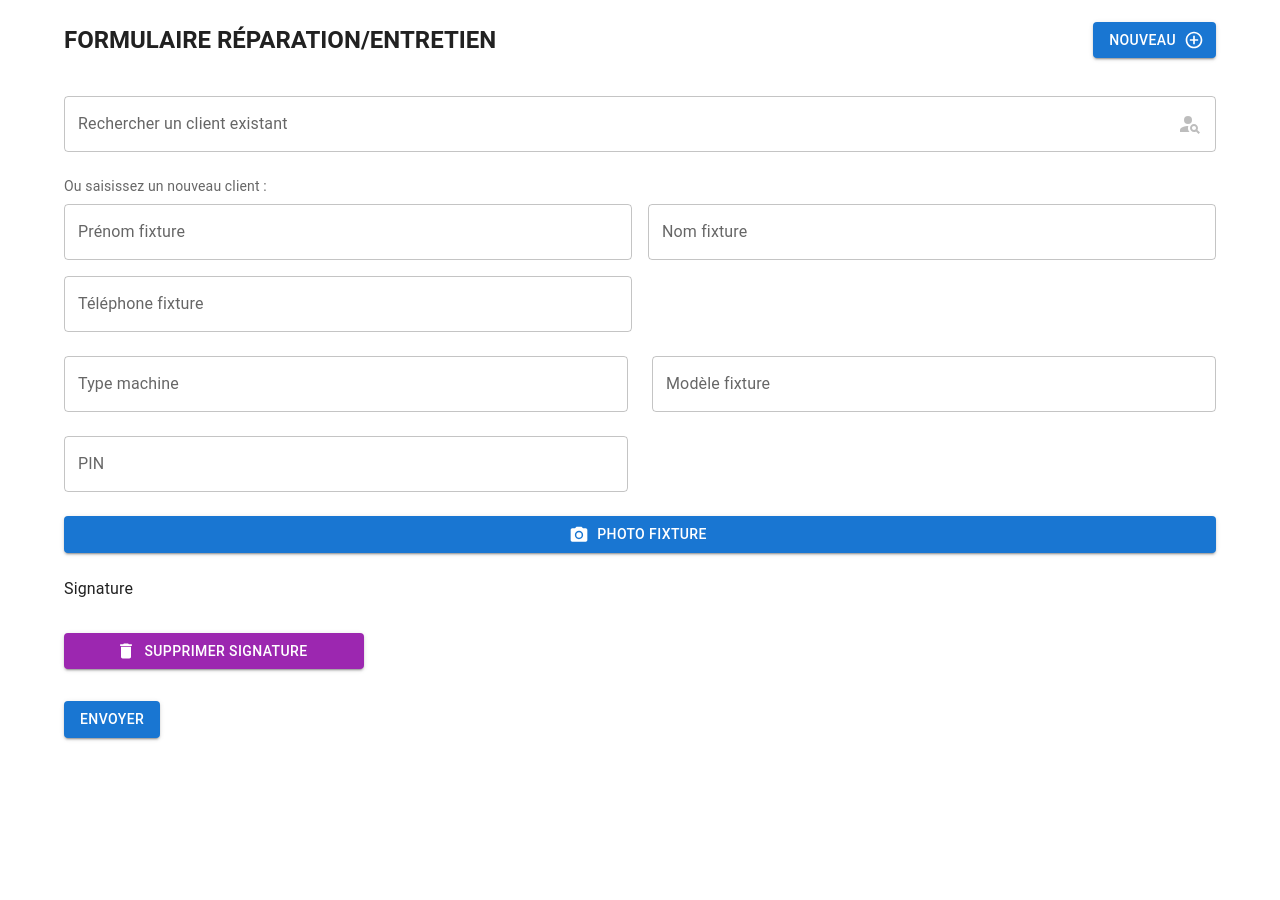
Test: propose un dépôt par défaut seulement pour les types explicitement classés robots
Type "Tondeuse" into the field labelled "Type machine" at (346,384), box [64, 356, 628, 412]
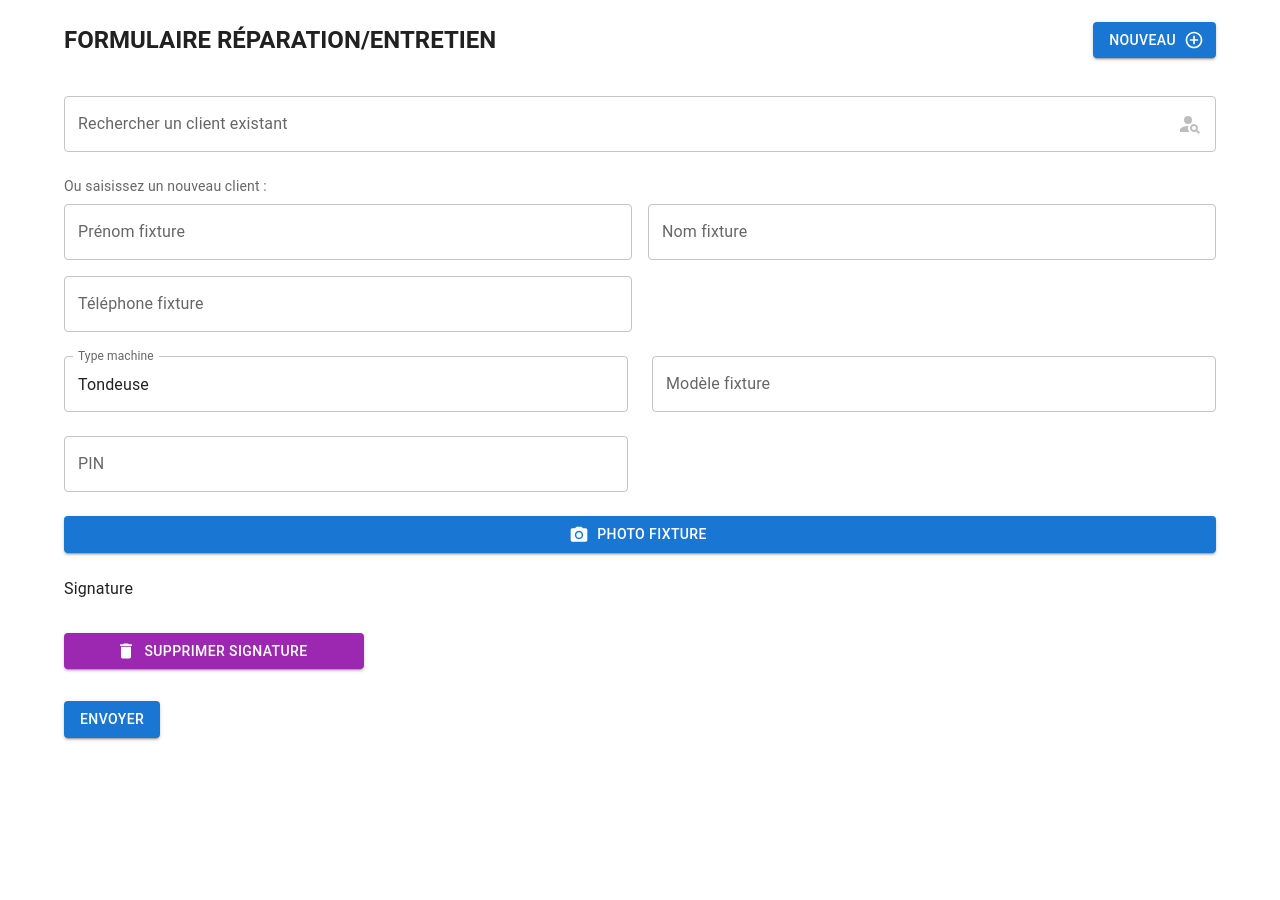
Type "1234" into the field labelled "PIN" at (346,464), box [64, 436, 628, 492]
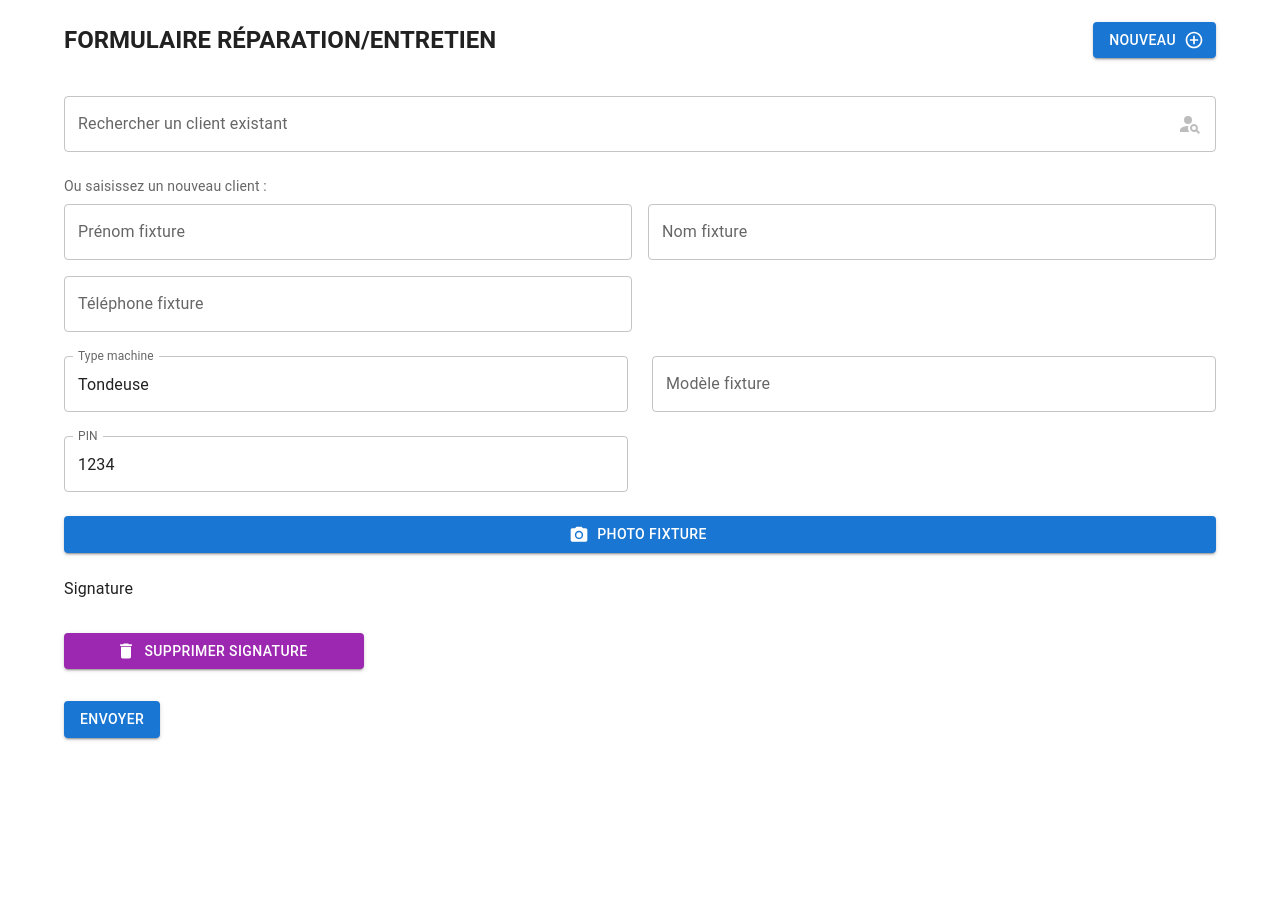
Replace the text in the field labelled "Type machine" with "Robot" at (346,384), box [64, 356, 628, 412]
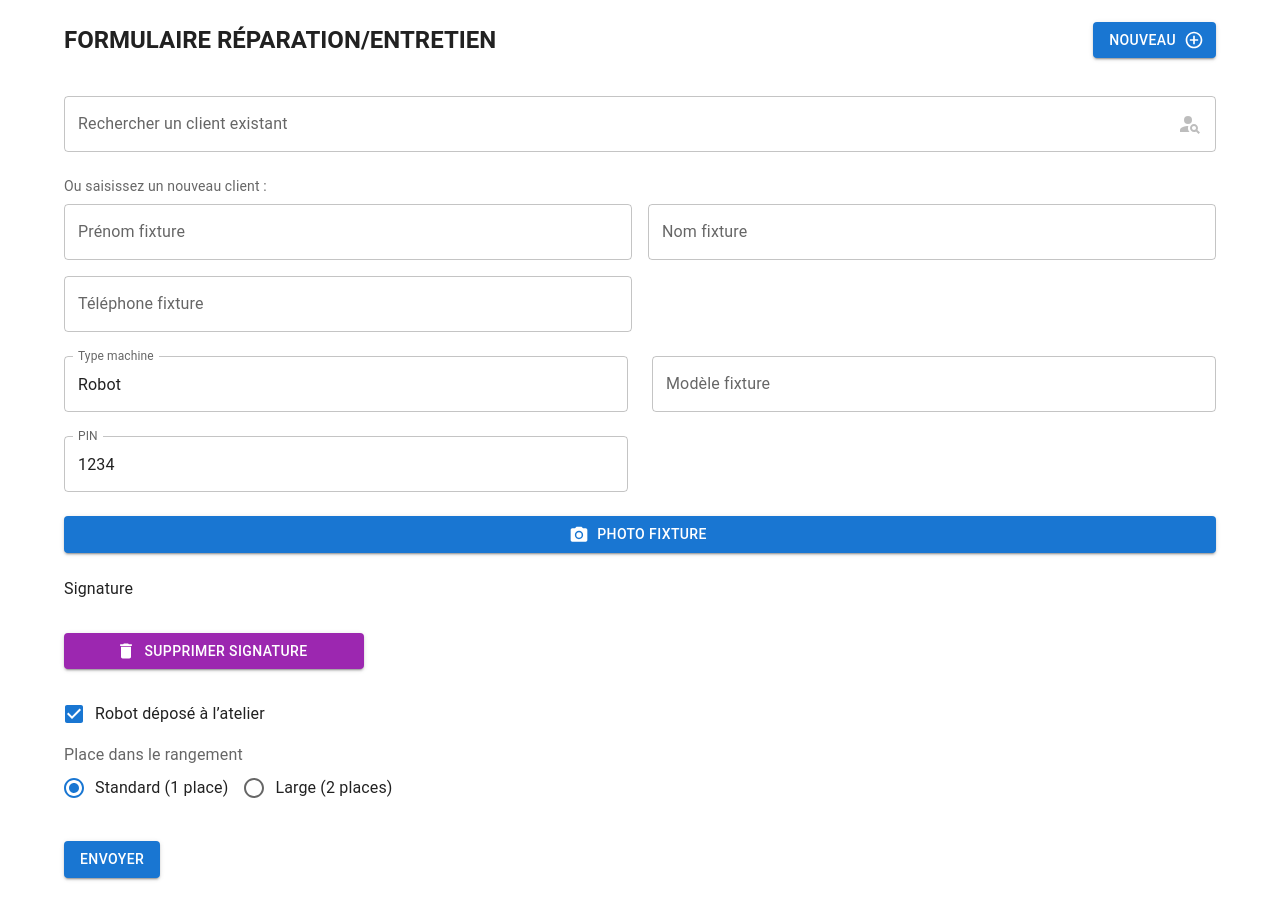
Now the checkbox labelled "Robot déposé à l’atelier" is checked, box [62, 702, 265, 726]
